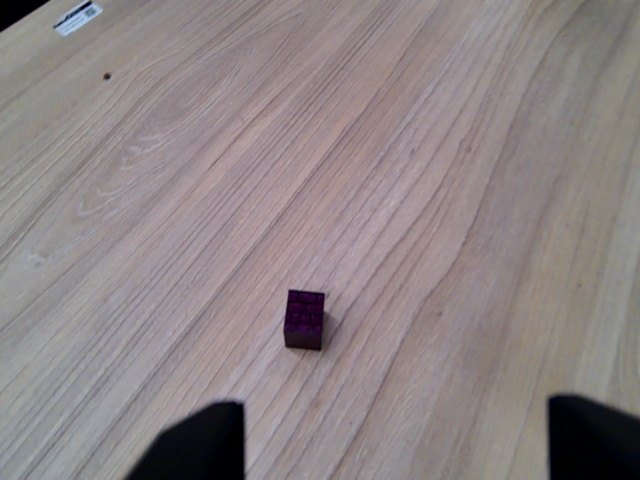brick: (277, 289, 330, 353)
